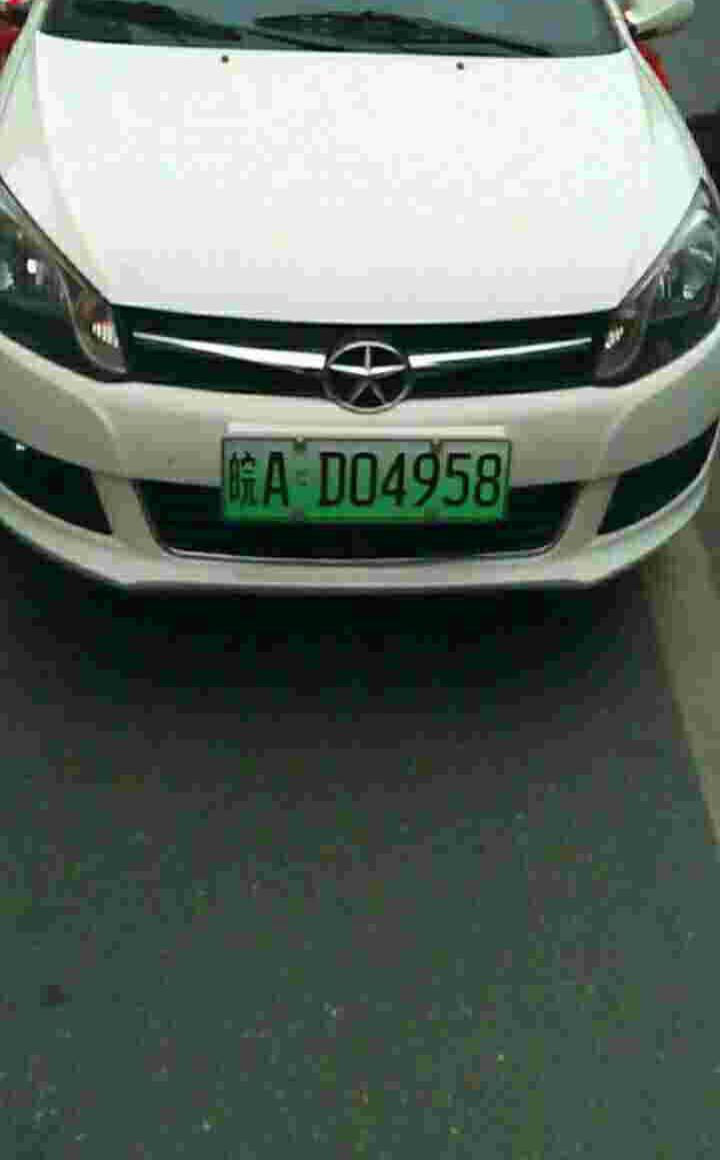car: (211, 428, 517, 533)
